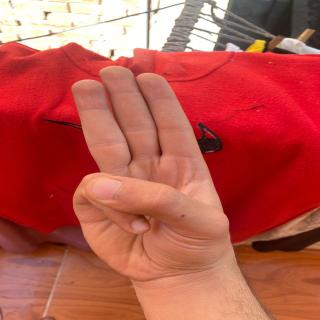THA: (60, 63, 240, 279)
